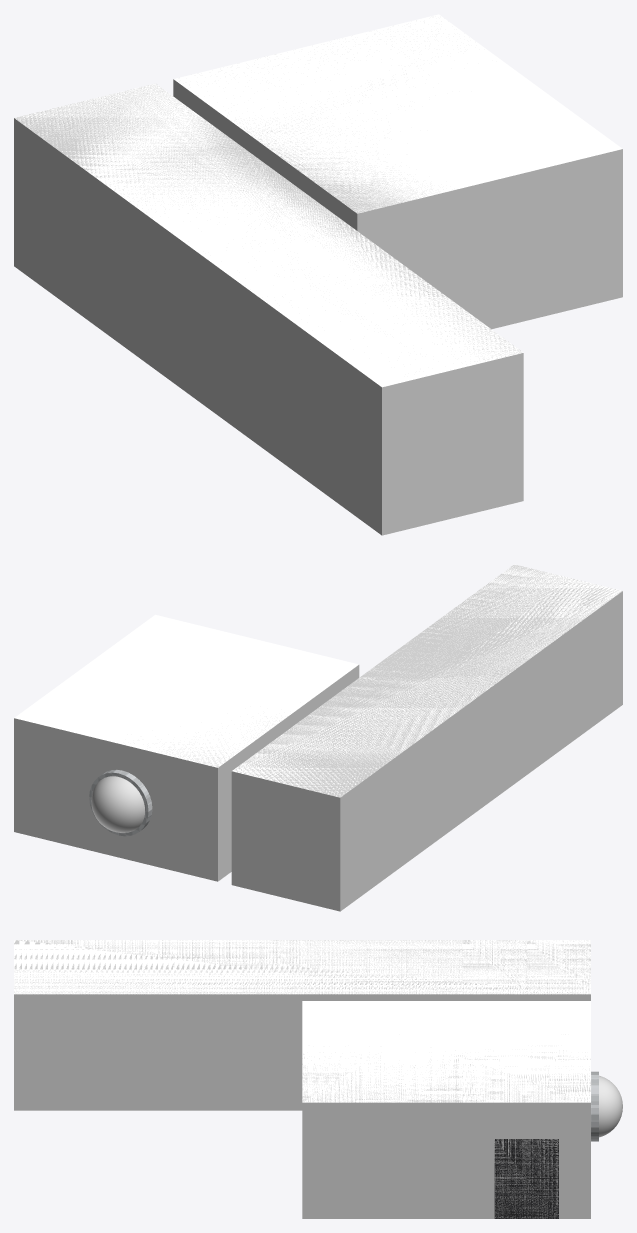
File: room1.glb
3 views of the same model, one above another, from view 1: azimuth 30°, elevation 25°; view 2: azimuth 150°, elevation 25°; view 3: azimuth 270°, elevation 25° (orthographic). The views are drawn at different scales.
Visible parts, largest first — view 1: StaticBody3D, ReflectionProbe.001, ReflectionProbe; view 2: ReflectionProbe.001, StaticBody3D, ReflectionProbe, StaticBody3D.002, Cylinder; view 3: StaticBody3D, ReflectionProbe.001, ReflectionProbe, StaticBody3D.001, StaticBody3D.002, Cylinder.
Boxes of the visible parts, bbox=[...] form: StaticBody3D: bbox=[15, 14, 622, 387]; ReflectionProbe.001: bbox=[14, 84, 523, 535]; ReflectionProbe: bbox=[173, 20, 622, 329]; ReflectionProbe.001: bbox=[231, 565, 622, 911]; StaticBody3D: bbox=[14, 564, 622, 796]; ReflectionProbe: bbox=[14, 665, 359, 881]; StaticBody3D.002: bbox=[91, 776, 144, 832]; Cylinder: bbox=[89, 769, 152, 836]; StaticBody3D: bbox=[14, 940, 590, 1102]; ReflectionProbe.001: bbox=[14, 940, 590, 1110]; ReflectionProbe: bbox=[302, 1034, 590, 1218]; StaticBody3D.001: bbox=[494, 1139, 558, 1218]; StaticBody3D.002: bbox=[599, 1075, 622, 1137]; Cylinder: bbox=[591, 1071, 598, 1141].
Bounding box in the file's own units: 12 × 4 × 19.
Materials: 7 (5 with a texture image).
